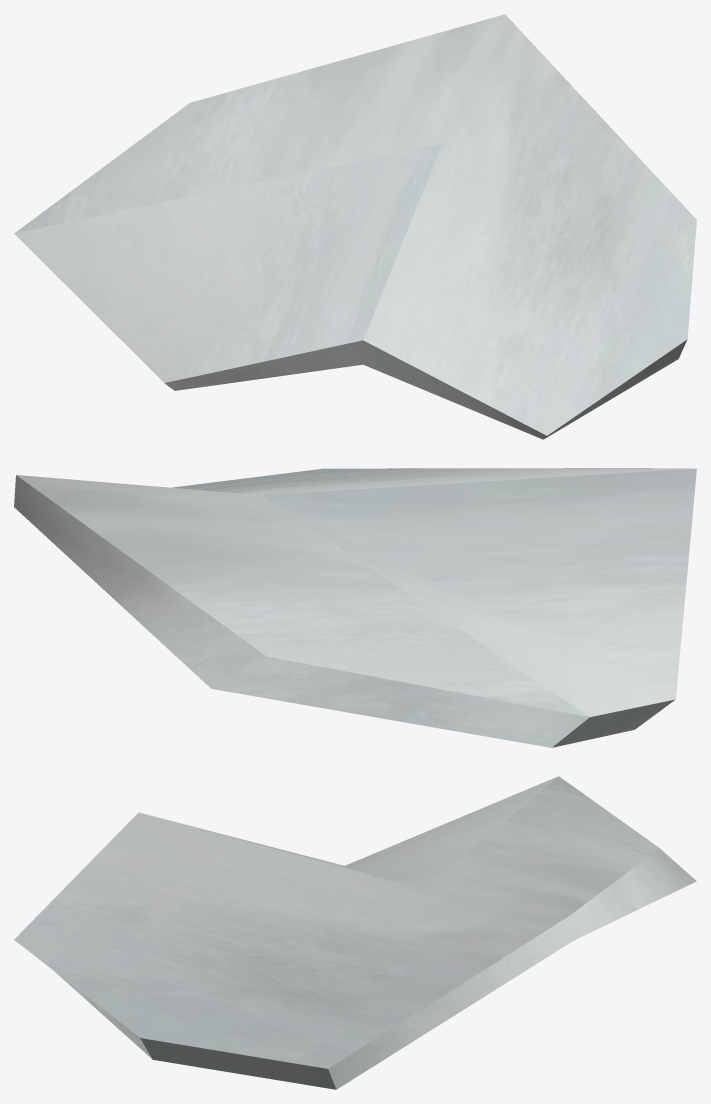
File: damaged_02.fbx
3 renders of one model, top to bottom at view 1: azimuth 30°, elevation 25°; view 2: azimuth 150°, elevation 25°; view 3: azimuth 270°, elevation 25°, orthographic. The views are drawn at different scales.
Parts seen in each view (by area): view 1: Cylinder024; view 2: Cylinder024; view 3: Cylinder024.
Part boxes in pixels (<box>): Cylinder024: <box>14,14,696,439</box>; Cylinder024: <box>14,468,696,747</box>; Cylinder024: <box>14,776,696,1089</box>.
Size of the model in its own units: 12.2 by 4.02 by 13.54.
